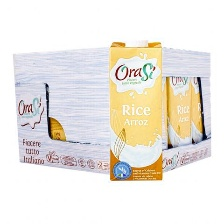carton: (104, 37, 169, 185)
